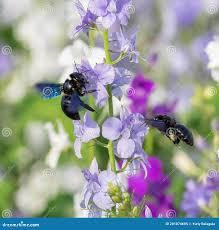Xylocopa: (37, 65, 100, 124), (139, 106, 196, 152)
